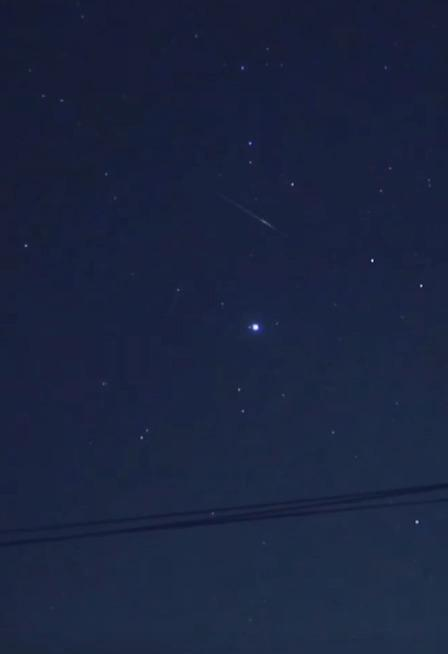meteorite: (221, 196, 292, 241)
